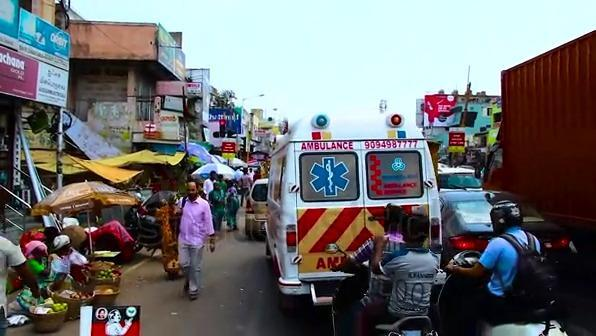Ambulance: (307, 156, 351, 199), (300, 140, 355, 152)
